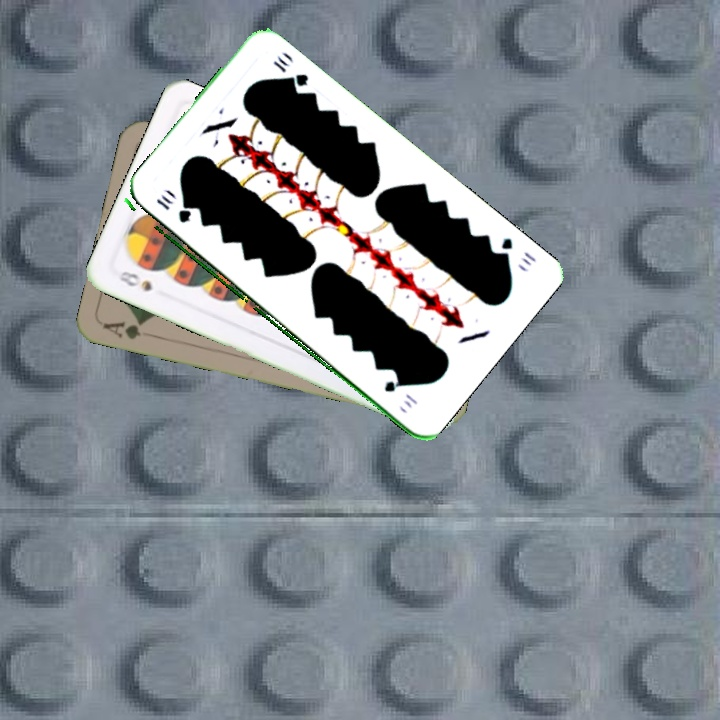G10: (492, 233, 539, 268), (152, 191, 193, 226)
GA: (100, 316, 147, 342)
S8: (110, 267, 155, 294)
